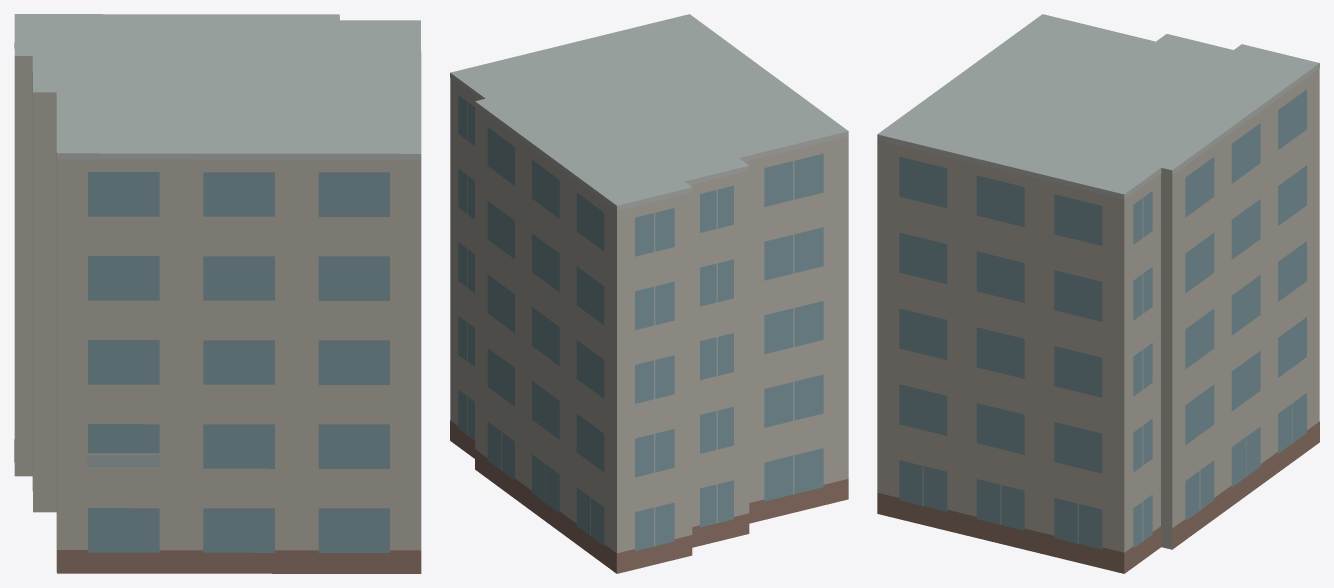
File: survey-upis-32949392.glb
3 renders of one model, left to right at view 1: azimuth 30°, elevation 25°; view 2: azimuth 150°, elevation 25°; view 3: azimuth 270°, elevation 25°, orthographic. The views are drawn at different scales.
Visible parts, largest first — view 1: survey-upis-32949392.tmp; view 2: survey-upis-32949392.tmp; view 3: survey-upis-32949392.tmp.
Part boxes in pixels (x1,y1,x2,y2): survey-upis-32949392.tmp: (14, 14, 421, 573); survey-upis-32949392.tmp: (450, 14, 848, 573); survey-upis-32949392.tmp: (877, 14, 1319, 573).
Bounding box in the file's own units: 17.66 × 17.3 × 18.29.
